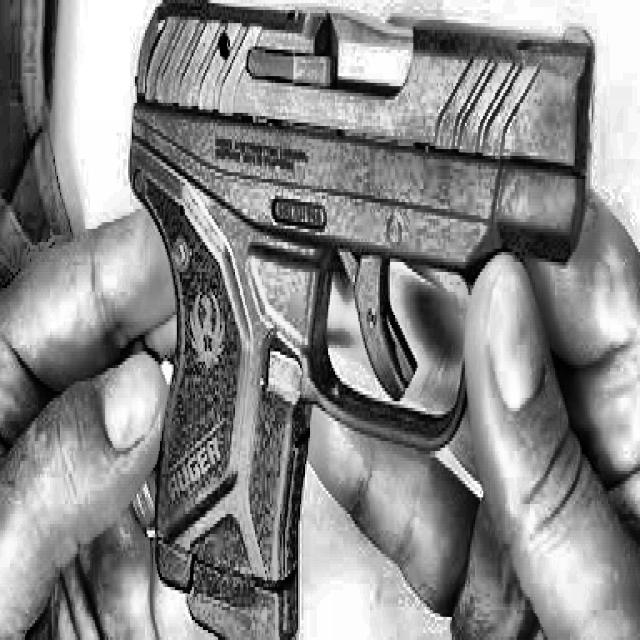Ruger: (127, 0, 595, 640)
